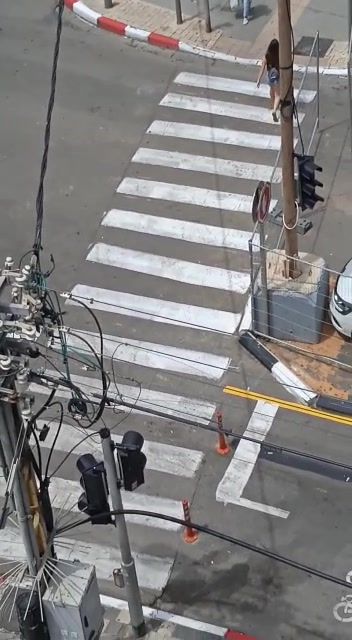crosswalk: (101, 44, 249, 551)
person: (250, 28, 293, 127)
